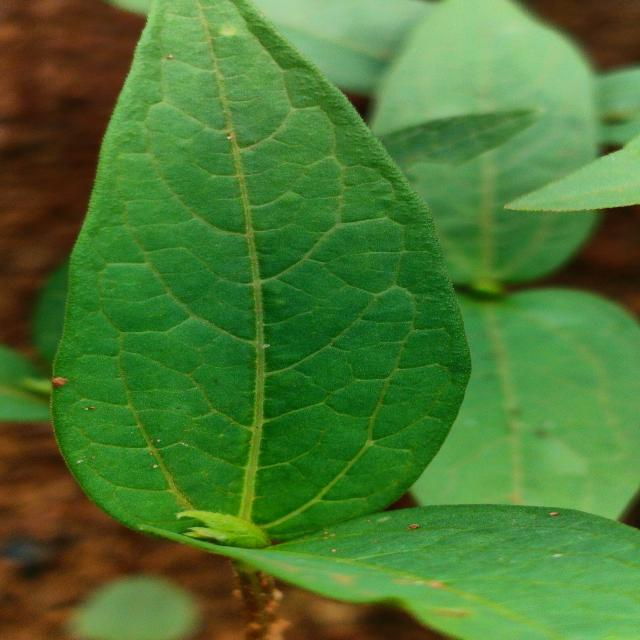Black gram_healthy: (43, 0, 469, 563)
